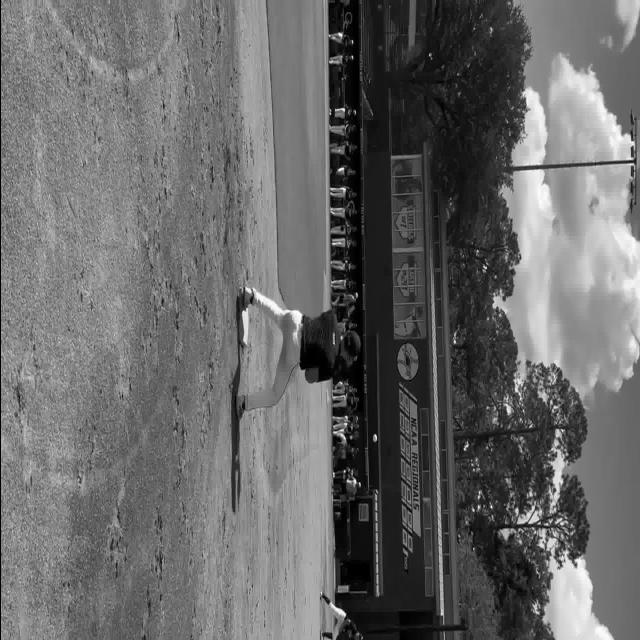base: (236, 287, 249, 347)
baseball: (371, 433, 376, 442)
shoe: (238, 287, 252, 311), (234, 393, 244, 420)
